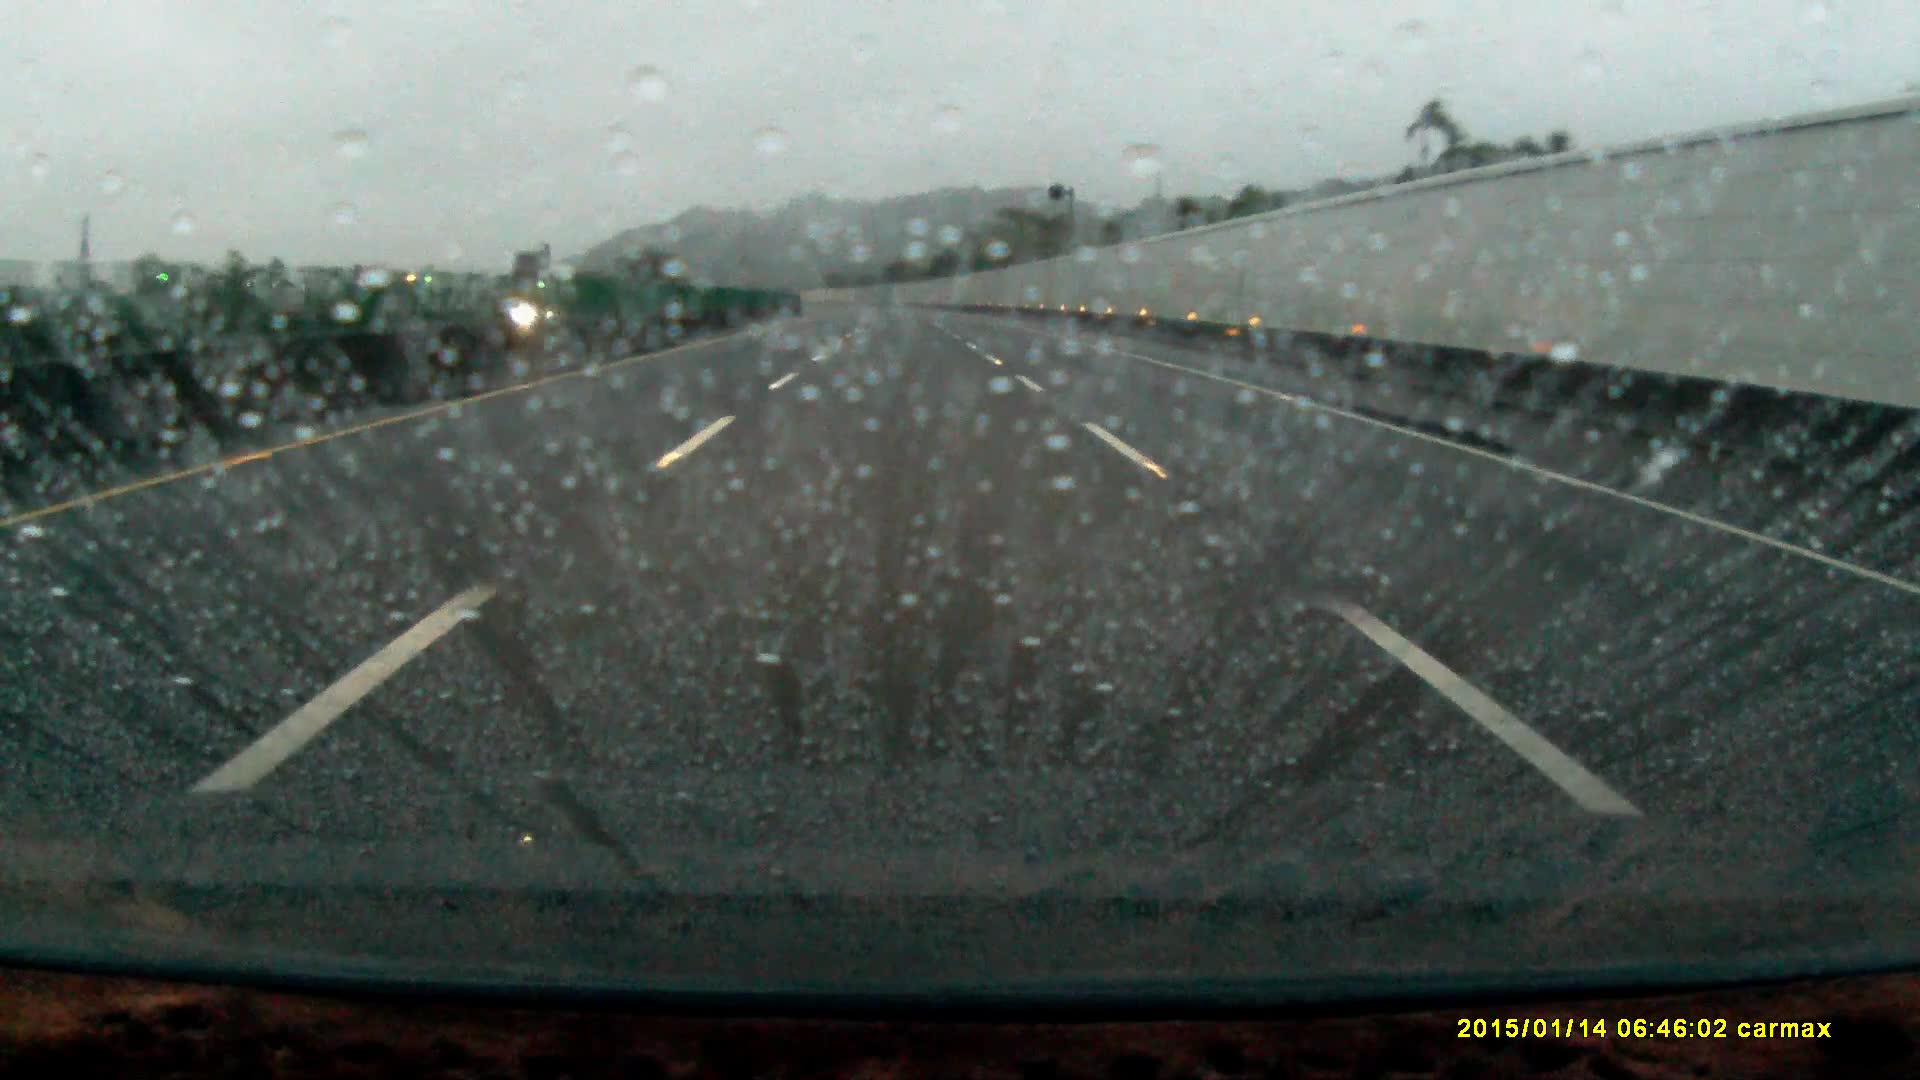vehicle: (517, 290, 587, 324)
